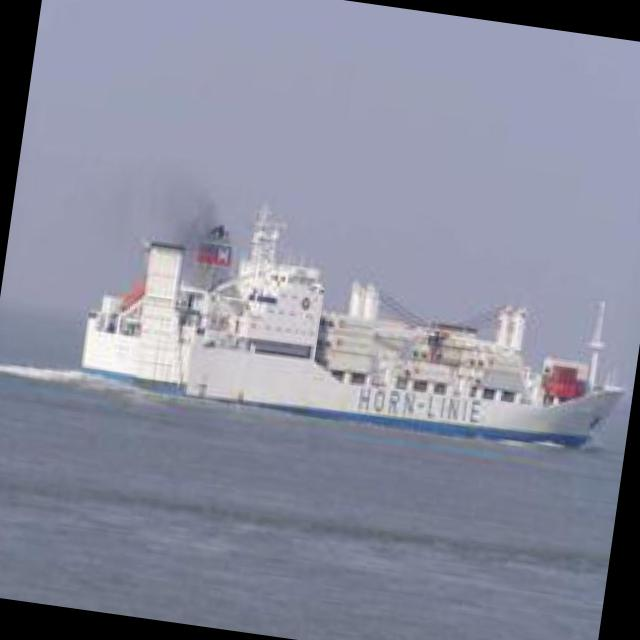boat: (72, 242, 631, 470)
